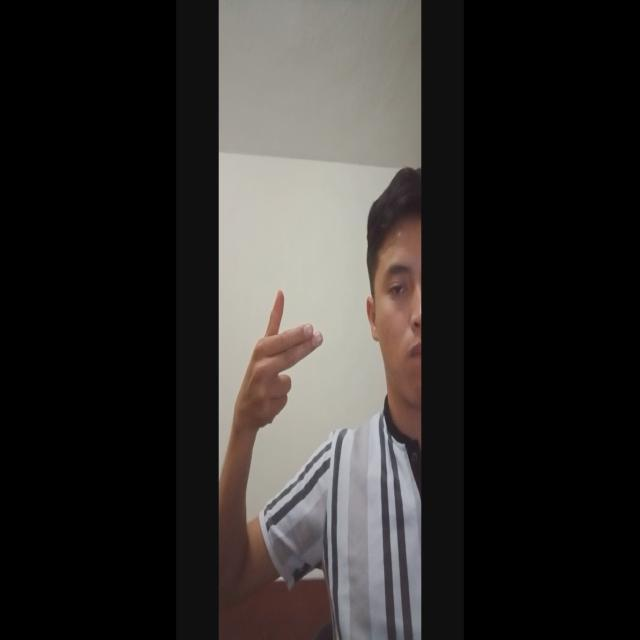H: (226, 280, 332, 442)
